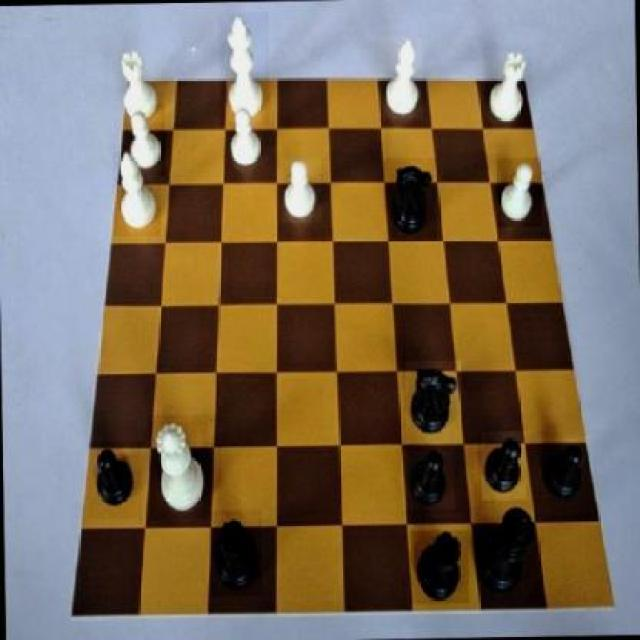black-bishop: (477, 500, 540, 604)
black-king: (406, 360, 463, 444), (384, 157, 438, 241)
black-knight: (537, 436, 593, 514), (88, 440, 142, 520), (402, 451, 456, 511), (480, 431, 526, 500)
black-queen: (210, 510, 262, 598), (409, 530, 468, 604)
black-rook: (112, 152, 160, 237), (380, 37, 423, 120)
white-bishop: (218, 12, 271, 126)
white-knight: (121, 105, 166, 177), (497, 157, 541, 227), (225, 103, 262, 177), (280, 159, 321, 223)
white-pawn: (148, 414, 210, 518)
white-queen: (483, 44, 533, 128), (117, 35, 161, 123)
